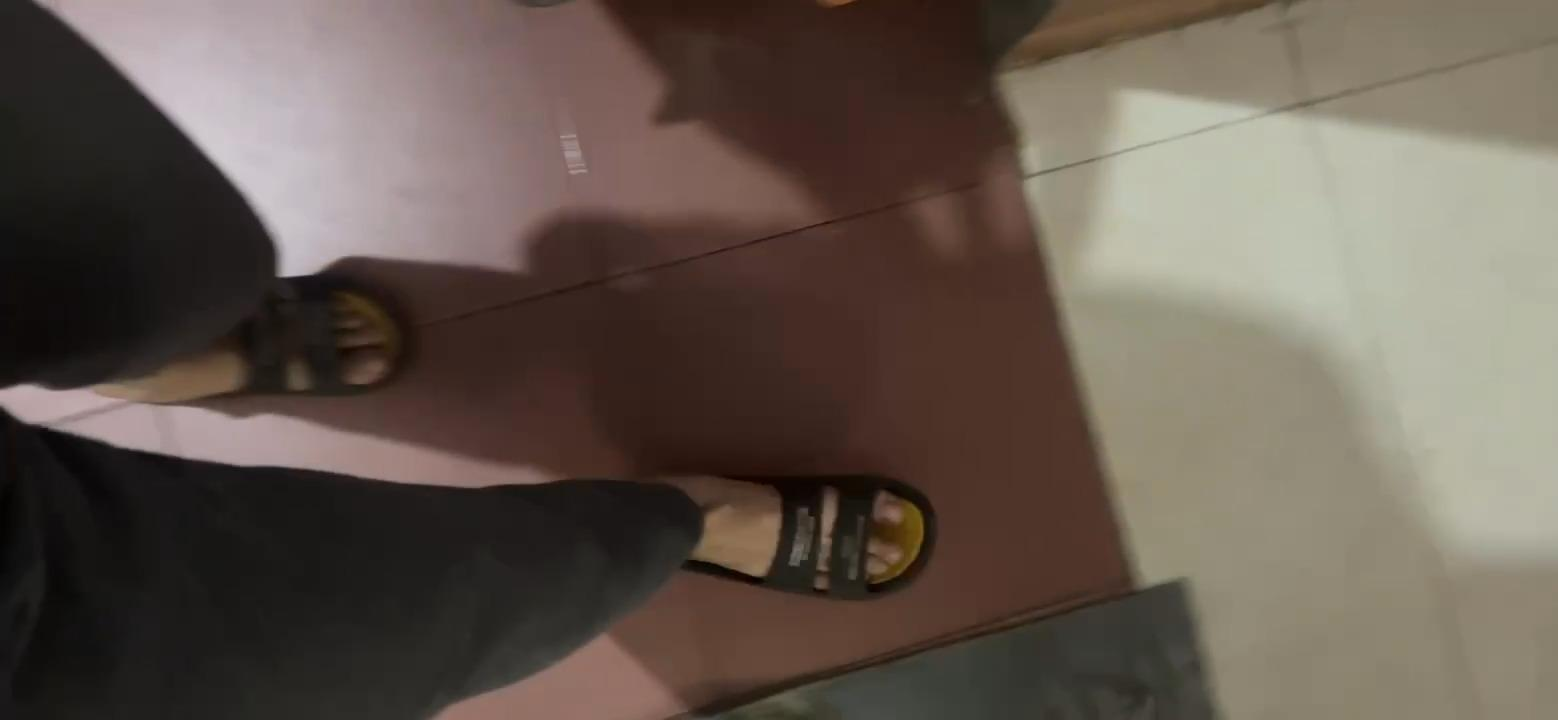no-boot: (653, 437, 941, 606), (141, 265, 400, 409)
